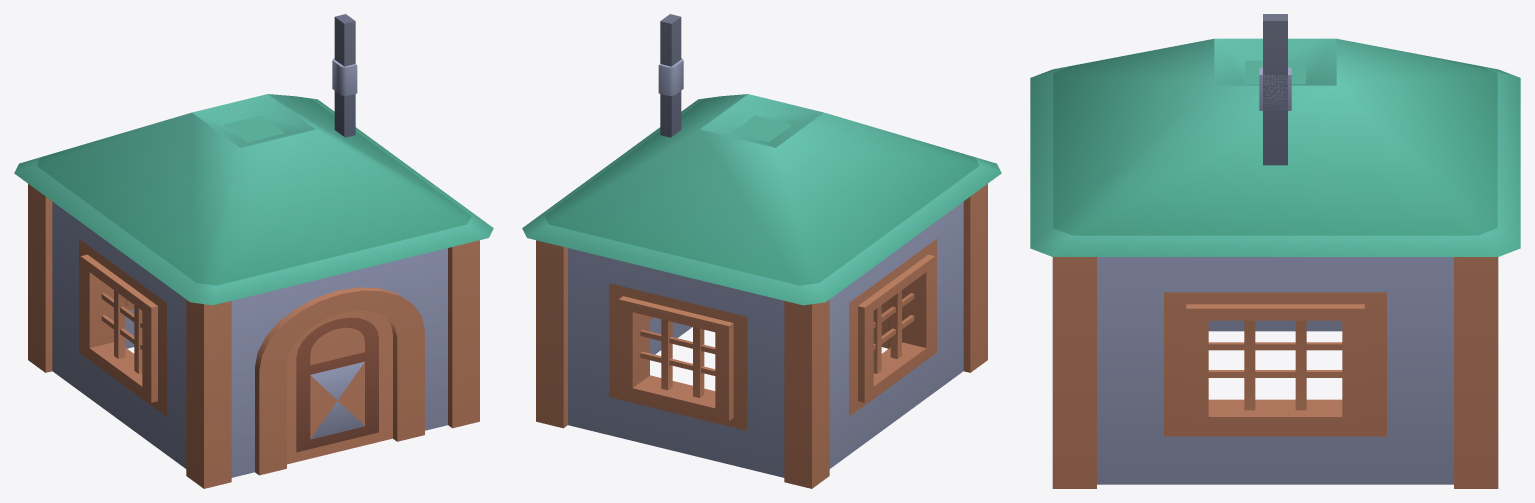
File: house.glb
The picture shows the model from 3 angles, left to right: view 1: azimuth 30°, elevation 25°; view 2: azimuth 150°, elevation 25°; view 3: azimuth 270°, elevation 25°; orthographic projection. The views are drawn at different scales.
Visible parts, largest first — view 1: house; view 2: house; view 3: house.
Boxes of the visible parts, <box> form: house: <box>14,14,493,488</box>; house: <box>522,14,1001,488</box>; house: <box>1030,14,1520,488</box>.
Bounding box in the file's own units: 4.18 × 4.6 × 4.62.
Materials: 1 (1 with a texture image).
